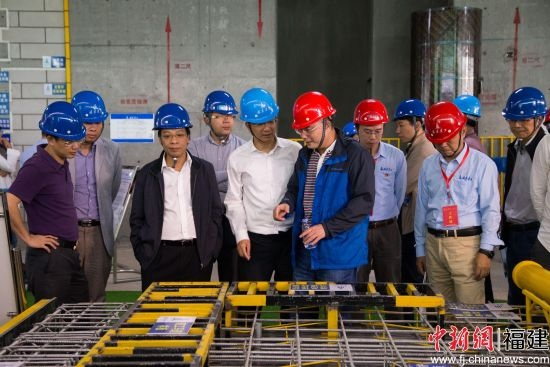blue: (498, 83, 548, 143), (237, 84, 282, 146), (38, 101, 84, 160), (151, 101, 195, 158), (70, 91, 108, 143), (201, 88, 238, 141), (392, 98, 426, 142), (450, 93, 483, 135), (339, 121, 359, 144)
red: (287, 88, 336, 150), (420, 98, 467, 157), (351, 96, 390, 146)
